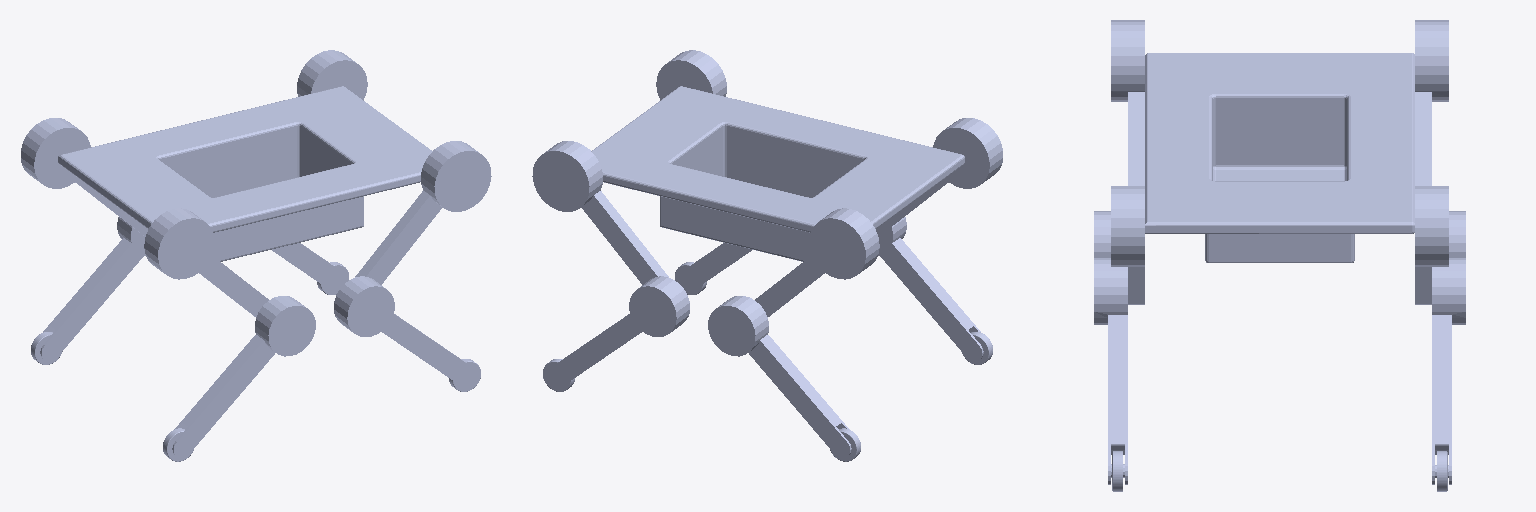
URDF robot description (correctedX):
<?xml version="1.0" encoding="utf-8"?>
<!-- This URDF was automatically created by SolidWorks to URDF Exporter! Originally created by [author] ([email redacted]) 
     Commit Version: 1.5.1-0-g916b5db  Build Version: 1.5.7152.31018
     For more information, please see http://wiki.ros.org/sw_urdf_exporter -->
<robot
  name="correctedX">
  <link
    name="Base">
    <inertial>
      <origin
        xyz="3.05311331771918E-16 -1.11022302462516E-16 -0.0293845287670849"
        rpy="0 0 0" />
      <mass
        value="5.72299502760058" />
      <inertia
        ixx="0.0838051740178236"
        ixy="1.07898325217893E-05"
        ixz="1.44892603126339E-17"
        iyy="0.174992079709937"
        iyz="1.22782652502483E-17"
        izz="0.23668653759848" />
    </inertial>
    <visual>
      <origin
        xyz="0 0 0"
        rpy="0 0 0" />
      <geometry>
        <mesh
          filename="package://correctedX/meshes/Base.STL" />
      </geometry>
      <material
        name="">
        <color
          rgba="0.792156862745098 0.819607843137255 0.933333333333333 1" />
      </material>
    </visual>
    <collision>
      <origin
        xyz="0 0 0"
        rpy="0 0 0" />
      <geometry>
        <mesh
          filename="package://correctedX/meshes/Base.STL" />
      </geometry>
    </collision>
  </link>
  <link
    name="LFThigh">
    <inertial>
      <origin
        xyz="-0.0387578568606957 0.039589515900732 -0.0212016687341889"
        rpy="0 0 0" />
      <mass
        value="0.812325047815779" />
      <inertia
        ixx="0.00424037590071737"
        ixy="0.00346701885665273"
        ixz="0.000273963146360504"
        iyy="0.00409314939372606"
        iyz="-0.000279841797704061"
        izz="0.00801849587199561" />
    </inertial>
    <visual>
      <origin
        xyz="0 0 0"
        rpy="0 0 0" />
      <geometry>
        <mesh
          filename="package://correctedX/meshes/LFThigh.STL" />
      </geometry>
      <material
        name="">
        <color
          rgba="0.792156862745098 0.819607843137255 0.933333333333333 1" />
      </material>
    </visual>
    <collision>
      <origin
        xyz="0 0 0"
        rpy="0 0 0" />
      <geometry>
        <mesh
          filename="package://correctedX/meshes/LFThigh.STL" />
      </geometry>
    </collision>
  </link>
  <joint
    name="LFHipJ"
    type="continuous">
    <origin
      xyz="0.289999999999996 0.2 0"
      rpy="1.5707963267949 -1.5707963267949 0" />
    <parent
      link="Base" />
    <child
      link="LFThigh" />
    <axis
      xyz="0 0 1" />
  </joint>
  <link
    name="LFShin">
    <inertial>
      <origin
        xyz="-0.00478824523565313 -0.0667368478021353 -0.00408848059505523"
        rpy="0 0 0" />
      <mass
        value="0.66429466740859" />
      <inertia
        ixx="0.00591198422638477"
        ixy="-0.000394422962493395"
        ixz="-1.88033950698927E-05"
        iyy="0.000429105284715045"
        iyz="-0.000262074988473659"
        izz="0.00610154014164887" />
    </inertial>
    <visual>
      <origin
        xyz="0 0 0"
        rpy="0 0 0" />
      <geometry>
        <mesh
          filename="package://correctedX/meshes/LFShin.STL" />
      </geometry>
      <material
        name="">
        <color
          rgba="0.792156862745098 0.819607843137255 0.933333333333333 1" />
      </material>
    </visual>
    <collision>
      <origin
        xyz="0 0 0"
        rpy="0 0 0" />
      <geometry>
        <mesh
          filename="package://correctedX/meshes/LFShin.STL" />
      </geometry>
    </collision>
  </link>
  <joint
    name="LFKnee"
    type="continuous">
    <origin
      xyz="-0.20287281059363 0.207226018448076 -0.05"
      rpy="-3.14159265358979 0 2.34557986744127" />
    <parent
      link="LFThigh" />
    <child
      link="LFShin" />
    <axis
      xyz="0 0 1" />
  </joint>
  <link
    name="LeftFrontWheel">
    <inertial>
      <origin
        xyz="1.11022302462516E-16 0 -0.00799999999999998"
        rpy="0 0 0" />
      <mass
        value="0.0401045153174185" />
      <inertia
        ixx="1.08673877032686E-05"
        ixy="-1.27054942088145E-21"
        ixz="6.81872803857465E-22"
        iyy="1.08673877032686E-05"
        iyz="1.86982953664045E-22"
        izz="2.00321016958556E-05" />
    </inertial>
    <visual>
      <origin
        xyz="0 0 0"
        rpy="0 0 0" />
      <geometry>
        <mesh
          filename="package://correctedX/meshes/LeftFrontWheel.STL" />
      </geometry>
      <material
        name="">
        <color
          rgba="0.792156862745098 0.819607843137255 0.933333333333333 1" />
      </material>
    </visual>
    <collision>
      <origin
        xyz="0 0 0"
        rpy="0 0 0" />
      <geometry>
        <mesh
          filename="package://correctedX/meshes/LeftFrontWheel.STL" />
      </geometry>
    </collision>
  </link>
  <joint
    name="LeftFrontWheelJoint"
    type="continuous">
    <origin
      xyz="-0.0208189655172384 -0.289251742734234 -0.002"
      rpy="0 0 -1.64264767058275" />
    <parent
      link="LFShin" />
    <child
      link="LeftFrontWheel" />
    <axis
      xyz="0 0 1" />
  </joint>
  <link
    name="RightFrontThigh">
    <inertial>
      <origin
        xyz="0.0387578568606952 -0.0395895159007323 0.0212016687341888"
        rpy="0 0 0" />
      <mass
        value="0.81232504781578" />
      <inertia
        ixx="0.00424037590071745"
        ixy="0.00346701885665273"
        ixz="0.000273963146360501"
        iyy="0.00409314939372598"
        iyz="-0.000279841797704064"
        izz="0.00801849587199561" />
    </inertial>
    <visual>
      <origin
        xyz="0 0 0"
        rpy="0 0 0" />
      <geometry>
        <mesh
          filename="package://correctedX/meshes/RightFrontThigh.STL" />
      </geometry>
      <material
        name="">
        <color
          rgba="0.792156862745098 0.819607843137255 0.933333333333333 1" />
      </material>
    </visual>
    <collision>
      <origin
        xyz="0 0 0"
        rpy="0 0 0" />
      <geometry>
        <mesh
          filename="package://correctedX/meshes/RightFrontThigh.STL" />
      </geometry>
    </collision>
  </link>
  <joint
    name="RightFrontHip"
    type="continuous">
    <origin
      xyz="0.29 -0.2 0"
      rpy="1.5707963267949 1.5707963267949 0" />
    <parent
      link="Base" />
    <child
      link="RightFrontThigh" />
    <axis
      xyz="0 0 -1" />
  </joint>
  <link
    name="RightFrontShin">
    <inertial>
      <origin
        xyz="-1.51167381730599E-05 0.0669083994614005 0.0209115194049448"
        rpy="0 0 0" />
      <mass
        value="0.664294667408591" />
      <inertia
        ixx="0.00594021167175918"
        ixy="2.24027883792968E-06"
        ixz="-5.93632919882628E-08"
        iyy="0.000400877839340645"
        iyz="0.000262748670264234"
        izz="0.00610154014164887" />
    </inertial>
    <visual>
      <origin
        xyz="0 0 0"
        rpy="0 0 0" />
      <geometry>
        <mesh
          filename="package://correctedX/meshes/RightFrontShin.STL" />
      </geometry>
      <material
        name="">
        <color
          rgba="0.792156862745098 0.819607843137255 0.933333333333333 1" />
      </material>
    </visual>
    <collision>
      <origin
        xyz="0 0 0"
        rpy="0 0 0" />
      <geometry>
        <mesh
          filename="package://correctedX/meshes/RightFrontShin.STL" />
      </geometry>
    </collision>
  </link>
  <joint
    name="RightFrontKnee"
    type="continuous">
    <origin
      xyz="0.202872810593622 -0.207226018448081 0.025"
      rpy="0 0 -0.724161442360665" />
    <parent
      link="RightFrontThigh" />
    <child
      link="RightFrontShin" />
    <axis
      xyz="0 0 1" />
  </joint>
  <link
    name="RightFrontWheel">
    <inertial>
      <origin
        xyz="0 0 0.00800000000000001"
        rpy="0 0 0" />
      <mass
        value="0.0401045153174186" />
      <inertia
        ixx="1.08673877032686E-05"
        ixy="1.27054942088145E-21"
        ixz="-4.72413183558584E-23"
        iyy="1.08673877032686E-05"
        iyz="-5.30984571681279E-23"
        izz="2.00321016958557E-05" />
    </inertial>
    <visual>
      <origin
        xyz="0 0 0"
        rpy="0 0 0" />
      <geometry>
        <mesh
          filename="package://correctedX/meshes/RightFrontWheel.STL" />
      </geometry>
      <material
        name="">
        <color
          rgba="0.792156862745098 0.819607843137255 0.933333333333333 1" />
      </material>
    </visual>
    <collision>
      <origin
        xyz="0 0 0"
        rpy="0 0 0" />
      <geometry>
        <mesh
          filename="package://correctedX/meshes/RightFrontWheel.STL" />
      </geometry>
    </collision>
  </link>
  <joint
    name="RightFrontWheelJoint"
    type="continuous">
    <origin
      xyz="0 0.29 0.00700000000000001"
      rpy="0 0 1.5707963267949" />
    <parent
      link="RightFrontShin" />
    <child
      link="RightFrontWheel" />
    <axis
      xyz="0 0 -1" />
  </joint>
  <link
    name="LeftRearThight">
    <inertial>
      <origin
        xyz="0.0387578568606952 0.0395895159007324 -0.0212016687341889"
        rpy="0 0 0" />
      <mass
        value="0.812325047815779" />
      <inertia
        ixx="0.00424037590071745"
        ixy="-0.00346701885665273"
        ixz="-0.000273963146360501"
        iyy="0.00409314939372597"
        iyz="-0.000279841797704064"
        izz="0.0080184958719956" />
    </inertial>
    <visual>
      <origin
        xyz="0 0 0"
        rpy="0 0 0" />
      <geometry>
        <mesh
          filename="package://correctedX/meshes/LeftRearThight.STL" />
      </geometry>
      <material
        name="">
        <color
          rgba="0.792156862745098 0.819607843137255 0.933333333333333 1" />
      </material>
    </visual>
    <collision>
      <origin
        xyz="0 0 0"
        rpy="0 0 0" />
      <geometry>
        <mesh
          filename="package://correctedX/meshes/LeftRearThight.STL" />
      </geometry>
    </collision>
  </link>
  <joint
    name="LeftRearJoint"
    type="continuous">
    <origin
      xyz="-0.29 0.2 0"
      rpy="1.5707963267949 1.5707963267949 0" />
    <parent
      link="Base" />
    <child
      link="LeftRearThight" />
    <axis
      xyz="0 0 1" />
  </joint>
  <link
    name="LeftRearShin">
    <inertial>
      <origin
        xyz="-1.51167381730395E-05 0.0669083994614006 -0.00408848059505501"
        rpy="0 0 0" />
      <mass
        value="0.66429466740859" />
      <inertia
        ixx="0.00594021167175917"
        ixy="2.24027883792944E-06"
        ixz="-5.93632919882906E-08"
        iyy="0.000400877839340643"
        iyz="0.000262748670264234"
        izz="0.00610154014164886" />
    </inertial>
    <visual>
      <origin
        xyz="0 0 0"
        rpy="0 0 0" />
      <geometry>
        <mesh
          filename="package://correctedX/meshes/LeftRearShin.STL" />
      </geometry>
      <material
        name="">
        <color
          rgba="0.792156862745098 0.819607843137255 0.933333333333333 1" />
      </material>
    </visual>
    <collision>
      <origin
        xyz="0 0 0"
        rpy="0 0 0" />
      <geometry>
        <mesh
          filename="package://correctedX/meshes/LeftRearShin.STL" />
      </geometry>
    </collision>
  </link>
  <joint
    name="LeftRearKnee"
    type="continuous">
    <origin
      xyz="0.202872810593622 0.207226018448081 -0.05"
      rpy="3.14159265358979 0 0.724161442360665" />
    <parent
      link="LeftRearThight" />
    <child
      link="LeftRearShin" />
    <axis
      xyz="0 0 1" />
  </joint>
  <link
    name="LeftRearWheel">
    <inertial>
      <origin
        xyz="0 -6.50521303491303E-19 -0.00800000000000001"
        rpy="0 0 0" />
      <mass
        value="0.0401045153174185" />
      <inertia
        ixx="1.08673877032685E-05"
        ixy="1.27054942088145E-21"
        ixz="6.28608726114599E-22"
        iyy="1.08673877032685E-05"
        iyz="8.98964126596292E-22"
        izz="2.00321016958557E-05" />
    </inertial>
    <visual>
      <origin
        xyz="0 0 0"
        rpy="0 0 0" />
      <geometry>
        <mesh
          filename="package://correctedX/meshes/LeftRearWheel.STL" />
      </geometry>
      <material
        name="">
        <color
          rgba="0.792156862745098 0.819607843137255 0.933333333333333 1" />
      </material>
    </visual>
    <collision>
      <origin
        xyz="0 0 0"
        rpy="0 0 0" />
      <geometry>
        <mesh
          filename="package://correctedX/meshes/LeftRearWheel.STL" />
      </geometry>
    </collision>
  </link>
  <joint
    name="LeftRearWheelJoint"
    type="continuous">
    <origin
      xyz="0 0.29 -0.00199999999999992"
      rpy="0 0 1.5707963267949" />
    <parent
      link="LeftRearShin" />
    <child
      link="LeftRearWheel" />
    <axis
      xyz="0 0 1" />
  </joint>
  <link
    name="RightRearThigh">
    <inertial>
      <origin
        xyz="0.0387578568606951 0.0395895159007324 0.0212016687341888"
        rpy="0 0 0" />
      <mass
        value="0.81232504781578" />
      <inertia
        ixx="0.00424037590071745"
        ixy="-0.00346701885665273"
        ixz="0.000273963146360501"
        iyy="0.00409314939372598"
        iyz="0.000279841797704065"
        izz="0.00801849587199561" />
    </inertial>
    <visual>
      <origin
        xyz="0 0 0"
        rpy="0 0 0" />
      <geometry>
        <mesh
          filename="package://correctedX/meshes/RightRearThigh.STL" />
      </geometry>
      <material
        name="">
        <color
          rgba="0.792156862745098 0.819607843137255 0.933333333333333 1" />
      </material>
    </visual>
    <collision>
      <origin
        xyz="0 0 0"
        rpy="0 0 0" />
      <geometry>
        <mesh
          filename="package://correctedX/meshes/RightRearThigh.STL" />
      </geometry>
    </collision>
  </link>
  <joint
    name="RightRearHip"
    type="continuous">
    <origin
      xyz="-0.29 -0.2 0"
      rpy="1.5707963267949 1.5707963267949 0" />
    <parent
      link="Base" />
    <child
      link="RightRearThigh" />
    <axis
      xyz="0 0 -1" />
  </joint>
  <link
    name="RightRearShin">
    <inertial>
      <origin
        xyz="-0.00478824523565417 -0.0667368478021352 0.0209115194049447"
        rpy="0 0 0" />
      <mass
        value="0.664294667408591" />
      <inertia
        ixx="0.00591198422638477"
        ixy="-0.000394422962493481"
        ixz="-1.88033950698971E-05"
        iyy="0.000429105284715057"
        iyz="-0.000262074988473661"
        izz="0.00610154014164888" />
    </inertial>
    <visual>
      <origin
        xyz="0 0 0"
        rpy="0 0 0" />
      <geometry>
        <mesh
          filename="package://correctedX/meshes/RightRearShin.STL" />
      </geometry>
      <material
        name="">
        <color
          rgba="0.792156862745098 0.819607843137255 0.933333333333333 1" />
      </material>
    </visual>
    <collision>
      <origin
        xyz="0 0 0"
        rpy="0 0 0" />
      <geometry>
        <mesh
          filename="package://correctedX/meshes/RightRearShin.STL" />
      </geometry>
    </collision>
  </link>
  <joint
    name="RightRearKnee"
    type="continuous">
    <origin
      xyz="0.202872810593622 0.207226018448081 0.0250000000000001"
      rpy="0 0 0.796012786148536" />
    <parent
      link="RightRearThigh" />
    <child
      link="RightRearShin" />
    <axis
      xyz="0 0 1" />
  </joint>
  <link
    name="RightRearWheel">
    <inertial>
      <origin
        xyz="1.38777878078145E-17 6.93889390390723E-18 0.00800000000000001"
        rpy="0 0 0" />
      <mass
        value="0.0401045153174186" />
      <inertia
        ixx="1.08673877032686E-05"
        ixy="-1.27054942088145E-21"
        ixz="3.13115167126485E-23"
        iyy="1.08673877032686E-05"
        iyz="-1.53038642499832E-23"
        izz="2.00321016958557E-05" />
    </inertial>
    <visual>
      <origin
        xyz="0 0 0"
        rpy="0 0 0" />
      <geometry>
        <mesh
          filename="package://correctedX/meshes/RightRearWheel.STL" />
      </geometry>
      <material
        name="">
        <color
          rgba="0.792156862745098 0.819607843137255 0.933333333333333 1" />
      </material>
    </visual>
    <collision>
      <origin
        xyz="0 0 0"
        rpy="0 0 0" />
      <geometry>
        <mesh
          filename="package://correctedX/meshes/RightRearWheel.STL" />
      </geometry>
    </collision>
  </link>
  <joint
    name="RightRearWheelJoint"
    type="continuous">
    <origin
      xyz="-0.0208189655172415 -0.289251742734235 0.0069999999999999"
      rpy="0 0 -1.64264767058277" />
    <parent
      link="RightRearShin" />
    <child
      link="RightRearWheel" />
    <axis
      xyz="0 0 1" />
  </joint>
</robot>

--- Render facts (derived) ---
Views: 3 orthographic renders of the robot side by side, from view 1: azimuth 30°, elevation 25°; view 2: azimuth 150°, elevation 25°; view 3: azimuth 270°, elevation 25°.
Robot: correctedX — 13 links, 12 joints (12 continuous); root link Base; default pose: every joint at zero.
Links seen in each view (by area): view 1: Base, RightRearShin, RightFrontThigh, RightRearThigh, RightFrontShin, LeftRearShin, LeftRearThight, LFThigh, LFShin; view 2: Base, LeftRearShin, LFThigh, LeftRearThight, LFShin, RightRearShin, RightRearThigh, RightFrontThigh, RightFrontShin; view 3: Base, RightFrontShin, LFShin, LeftRearThight, RightRearThigh, LFThigh, RightFrontThigh, LeftRearShin, RightRearShin.
Boxes of the visible links, <box> form: Base: <box>58,86,432,261</box>; RightRearShin: <box>172,296,315,457</box>; RightFrontThigh: <box>355,141,491,284</box>; RightRearThigh: <box>144,208,268,316</box>; RightFrontShin: <box>334,276,478,388</box>; LeftRearShin: <box>40,217,145,361</box>; LeftRearThight: <box>21,118,147,236</box>; LFThigh: <box>297,50,367,100</box>; LFShin: <box>272,243,346,291</box>; Base: <box>591,86,964,261</box>; LeftRearShin: <box>708,296,851,457</box>; LFThigh: <box>532,141,668,284</box>; LeftRearThight: <box>755,208,879,316</box>; LFShin: <box>545,276,689,387</box>; RightRearShin: <box>878,217,983,361</box>; RightRearThigh: <box>876,118,1002,236</box>; RightFrontThigh: <box>656,50,726,100</box>; RightFrontShin: <box>677,243,751,291</box>; Base: <box>1145,53,1414,262</box>; RightFrontShin: <box>1094,258,1127,484</box>; LFShin: <box>1432,258,1465,484</box>; LeftRearThight: <box>1415,20,1448,185</box>; RightRearThigh: <box>1111,20,1144,185</box>; LFThigh: <box>1415,186,1448,304</box>; RightFrontThigh: <box>1111,186,1144,304</box>; LeftRearShin: <box>1449,211,1465,257</box>; RightRearShin: <box>1094,211,1110,257</box>.
Size in the robot's own frame: 0.6997 by 0.55 by 0.4849 metres.
Meshes: 13 distinct files referenced, 13 mesh visuals loaded (13 binary STL).